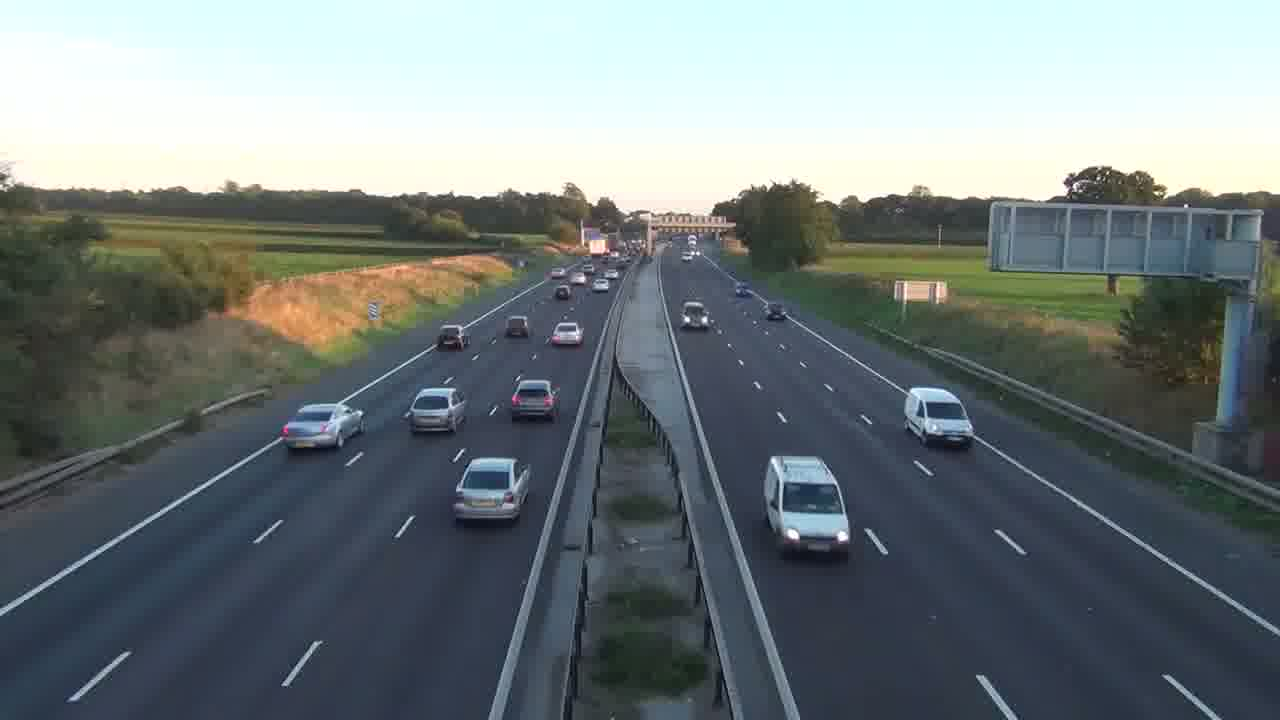car: (763, 455, 852, 559), (452, 456, 533, 525), (280, 402, 365, 452), (405, 385, 468, 435), (510, 378, 561, 422), (549, 320, 584, 348), (437, 324, 468, 351), (505, 315, 531, 339)
truck: (903, 385, 975, 448)
